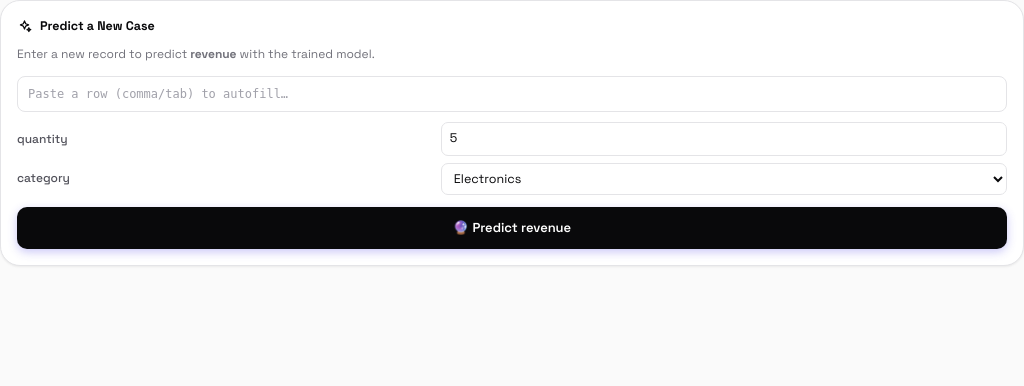
Test: PredictInputCard Component › submits form values and displays prediction output
The image size is (1024, 386).
What coordinates should you click on to do the following:
click the button "🔮 Predict revenue"
I would click on:
 (512, 228)
Its box is [17,207,1007,249].
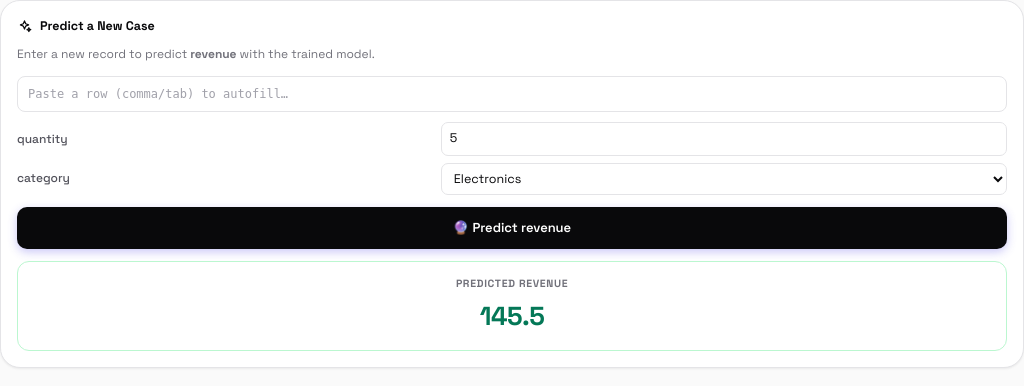
Now the text "Predicted revenue" is shown, box [456,277,568,290]
Now the text "145.5" is shown, box [480,299,544,333]
